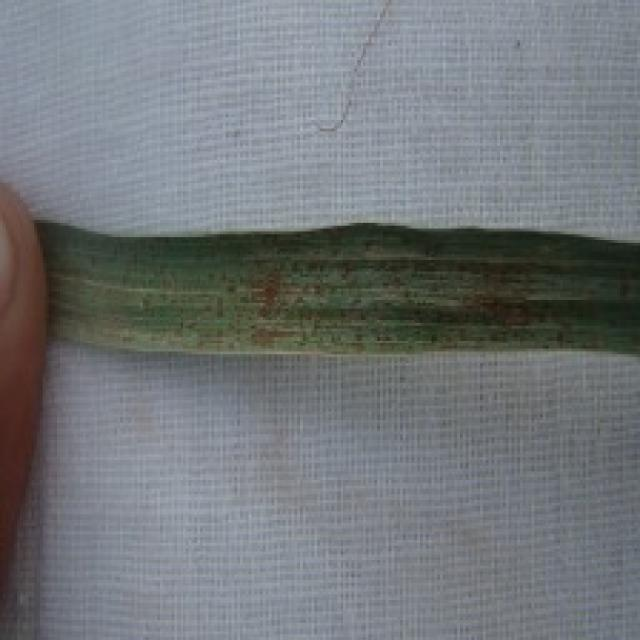Brown_Spot: (132, 268, 226, 358), (326, 264, 422, 348), (240, 257, 293, 353), (464, 268, 532, 336), (564, 265, 618, 340)
